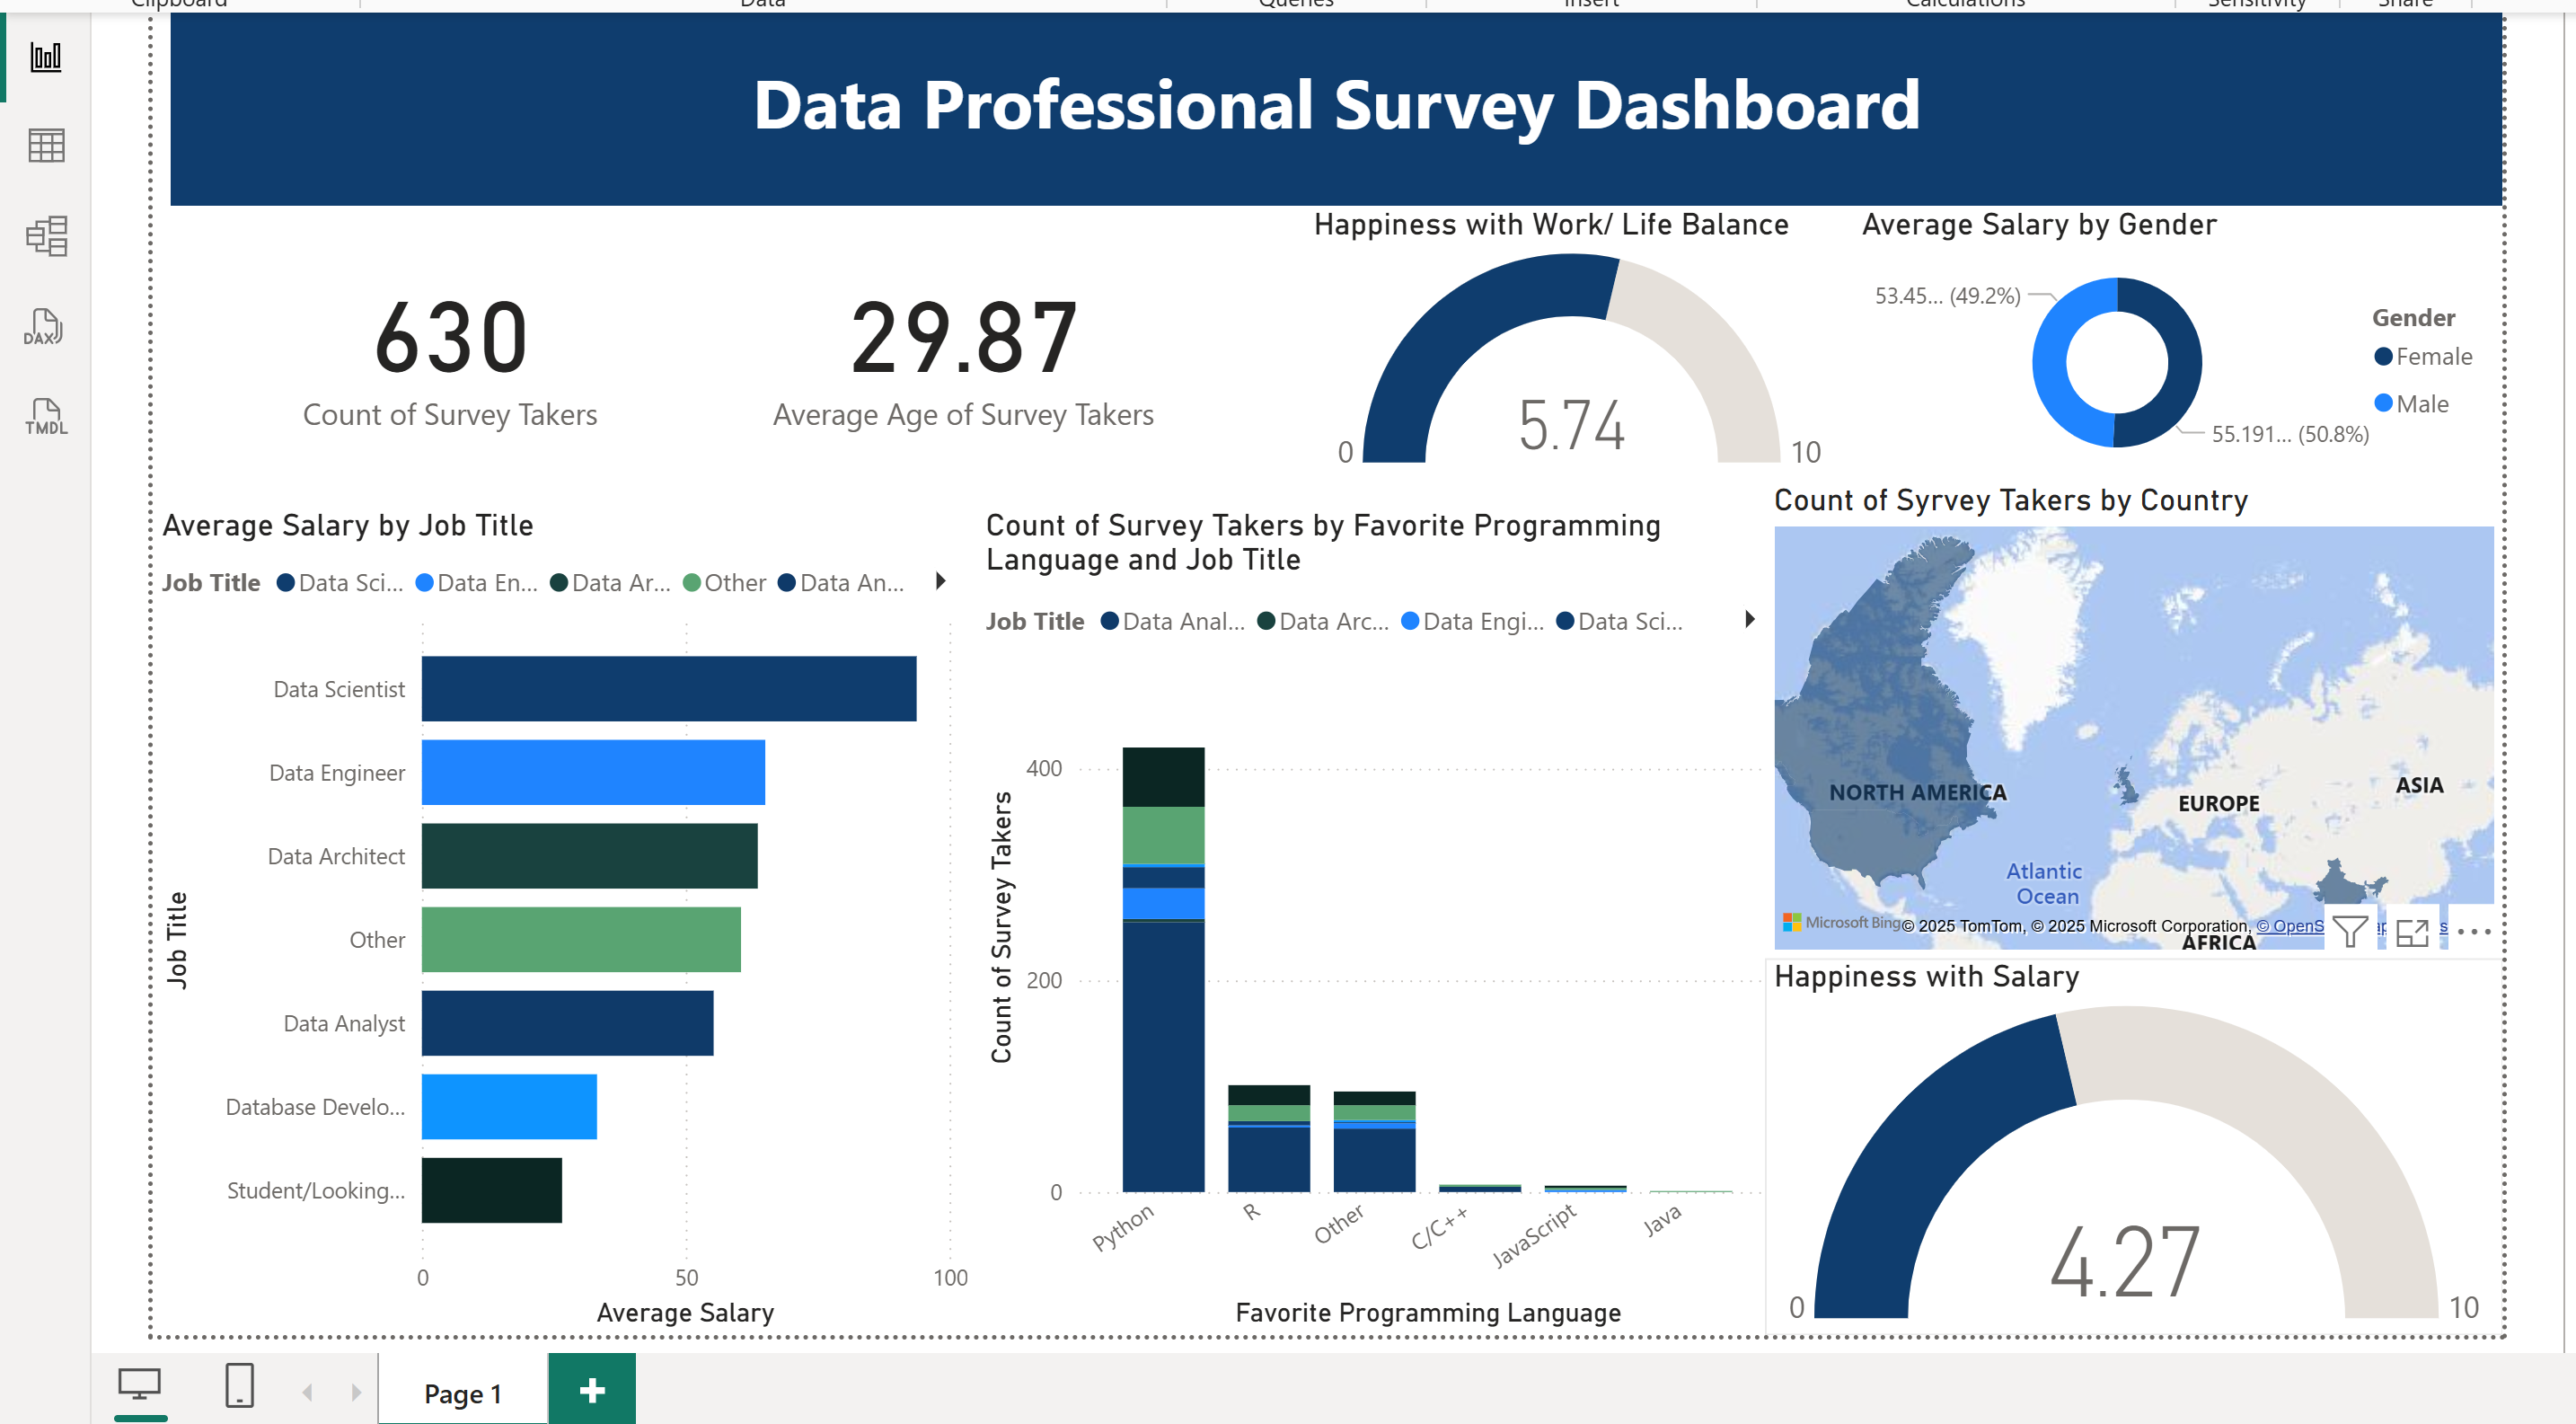

The dashboard page shown, as its layout file describes it:
{"tool":"powerbi","page":{"name":"Page 1","canvas":[1280,720],"ordinal":0},"visuals":[{"type":"textbox","box":[9.6,0,1270.7,105.7],"z":0},{"type":"card","fields":{"Values":["Count(Data Professional Survey.Unique ID)"]},"box":[0,105.7,323.8,149.6],"z":1000},{"type":"card","fields":{"Values":["Avg(Data Professional Survey.Q10 - Current Age)"]},"box":[255.2,105.7,371.9,149.6],"z":2000},{"type":"barChart","title":"Average Salary by Job Title","fields":{"Category":["Data Professional Survey.Q1 - Which Title Best Fits your Current Role?.1"],"Y":["Avg(Data Professional Survey.Q3 - Average Salary)"],"Series":["Data Professional Survey.Q1 - Which Title Best Fits your Current Role?.1"]},"box":[0,269,448.7,451.5],"z":3000},{"type":"columnChart","fields":{"Category":["Data Professional Survey.Q5 - Favorite Programming Language.1"],"Y":["CountNonNull(Data Professional Survey.Unique ID)"],"Series":["Data Professional Survey.Q1 - Which Title Best Fits your Current Role?.1"]},"box":[448.7,269,440.5,451.5],"z":3001},{"type":"filledMap","title":"Count of Syrvey Takers by Country","fields":{"Category":["Data Professional Survey.Q11 - Which Country do you live in?.1"]},"box":[878.2,255.2,402.1,259.3],"z":3002},{"type":"gauge","title":"Happiness with Work/ Life Balance","fields":{"Y":["Avg(Data Professional Survey.Q6 - How Happy are you in your Current Position with the following? (Work/Life Balance))"],"MinValue":["Min(Data Professional Survey.Q6 - How Happy are you in your Current Position with the following? (Work/Life Balance))1"],"MaxValue":["Max(Data Professional Survey.Q6 - How Happy are you in your Current Position with the following? (Work/Life Balance))2"]},"box":[627.1,105.7,299.1,149.6],"z":3003},{"type":"gauge","title":"Happiness with Salary","fields":{"Y":["Avg(Data Professional Survey.Q6 - How Happy are you in your Current Position with the following? (Salary))"],"MinValue":["Min(Data Professional Survey.Q6 - How Happy are you in your Current Position with the following? (Salary))1"],"MaxValue":["Max(Data Professional Survey.Q6 - How Happy are you in your Current Position with the following? (Salary))2"]},"box":[878.2,514.6,402.1,205.8],"z":3004},{"type":"donutChart","title":"Average Salary by Gender","fields":{"Y":["Avg(Data Professional Survey.Q3 - Average Salary)"],"Category":["Data Professional Survey.Q9 - Male/Female?"]},"box":[926.2,105.7,354,149.6],"z":3005}]}

Visuals, with their boxes on the page's 1280x720 design canvas (x1, y1, x2, y2). These are canvas units, not pixel positions in the 2576x1424 screenshot, which may show the page scaled, cropped or inside an application window:
textbox: 10, 0, 1280, 106
card - Count(Data Professional Survey.Unique ID): 0, 106, 324, 255
card - Avg(Data Professional Survey.Q10 - Current Age): 255, 106, 627, 255
"Average Salary by Job Title" barChart: 0, 269, 449, 720
columnChart - Data Professional Survey.Q5 - Favorite Programming Language.1 x CountNonNull(Data Professional Survey.Unique ID): 449, 269, 889, 720
"Count of Syrvey Takers by Country" filledMap: 878, 255, 1280, 514
"Happiness with Work/ Life Balance" gauge: 627, 106, 926, 255
"Happiness with Salary" gauge: 878, 515, 1280, 720
"Average Salary by Gender" donutChart: 926, 106, 1280, 255
